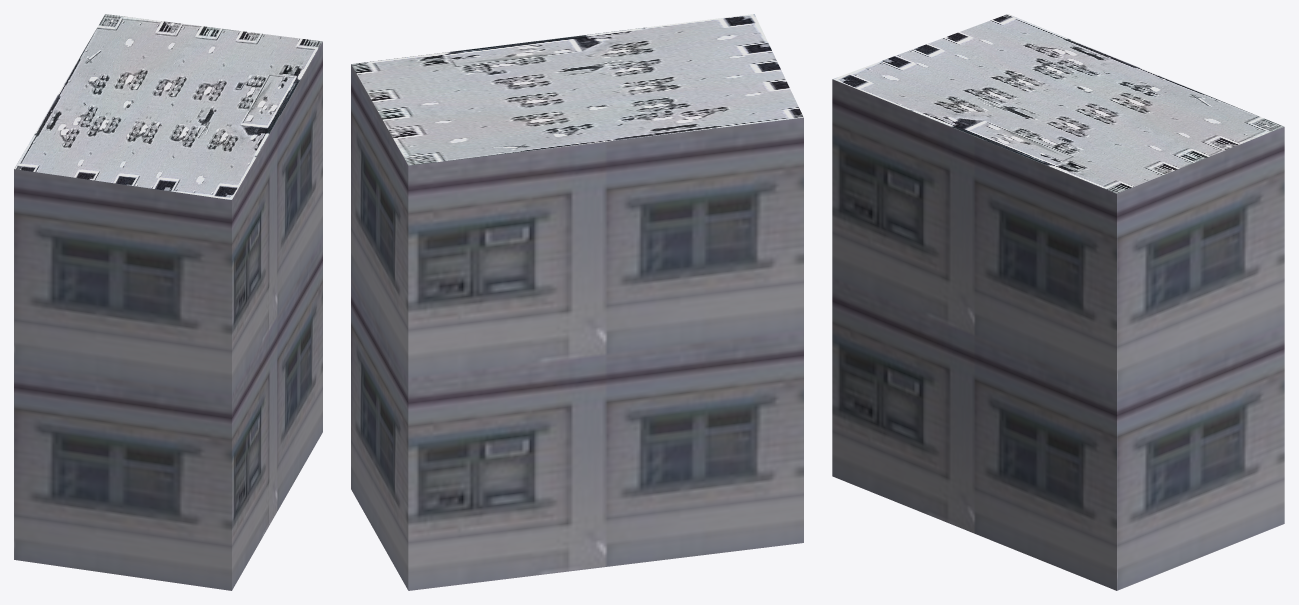
The model's file is ResTex__4141.fbx.
The picture shows the model from 3 angles, left to right: view 1: azimuth 30°, elevation 25°; view 2: azimuth 150°, elevation 25°; view 3: azimuth 270°, elevation 25°; orthographic projection. The views are drawn at different scales.
Parts seen in each view (by area): view 1: CityEngineMaterial_1_m, CityEngineMaterial_2_m; view 2: CityEngineMaterial_1_m, CityEngineMaterial_2_m; view 3: CityEngineMaterial_1_m, CityEngineMaterial_2_m.
Boxes of the visible parts, box(x1,y1,x2,y2) form: CityEngineMaterial_1_m: box(14, 42, 322, 590); CityEngineMaterial_2_m: box(14, 14, 322, 199); CityEngineMaterial_1_m: box(351, 64, 803, 590); CityEngineMaterial_2_m: box(351, 14, 803, 165); CityEngineMaterial_1_m: box(832, 79, 1284, 590); CityEngineMaterial_2_m: box(833, 14, 1283, 193).
Bounding box in the file's own units: 5.82 × 6 × 6.19.
2 materials, 2 textured.
